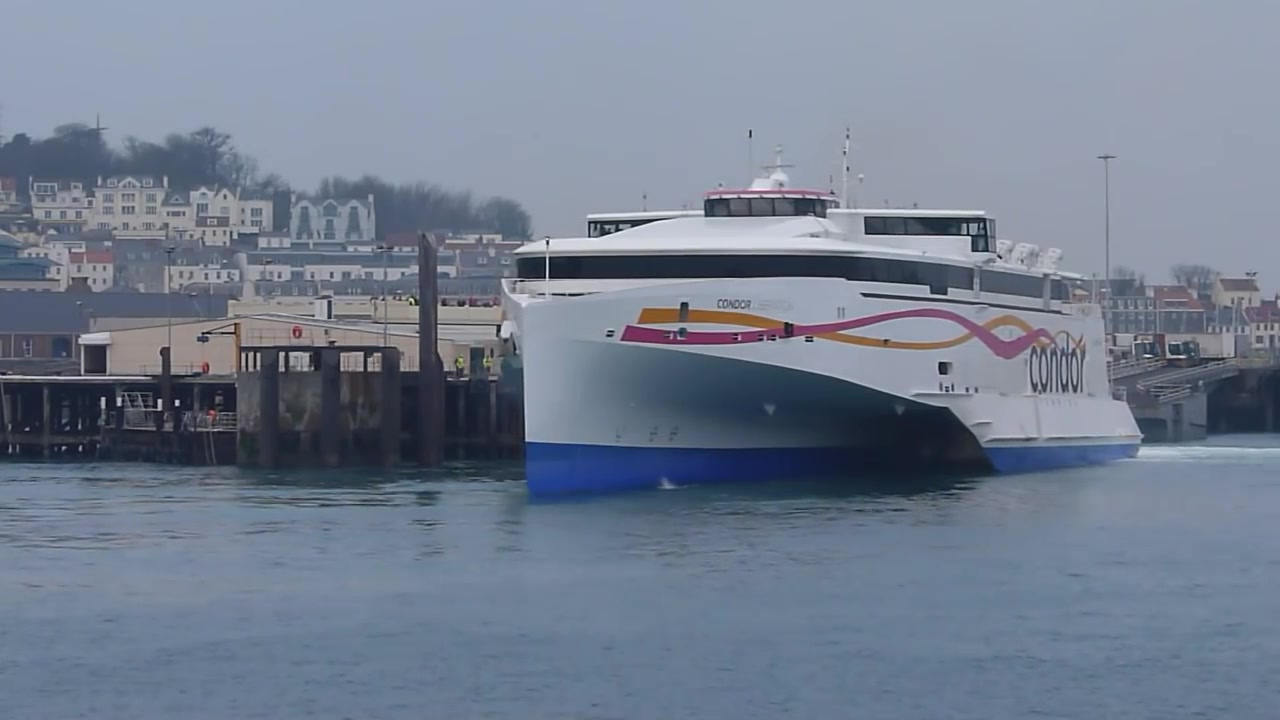CommonShip: (483, 157, 1159, 511)
